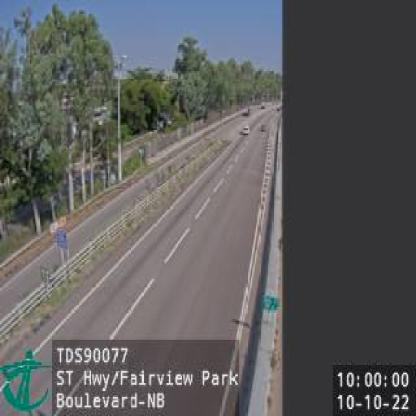Car: (240, 126, 249, 136)
